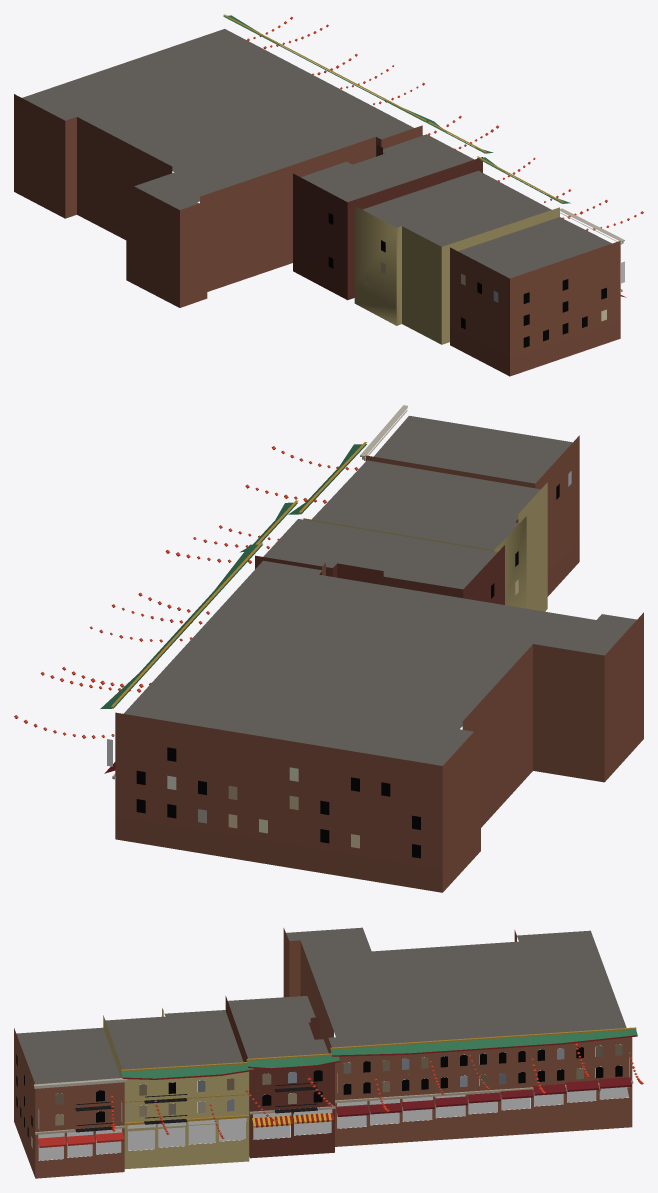
The picture shows the model from 3 angles, top to bottom: view 1: azimuth 30°, elevation 25°; view 2: azimuth 150°, elevation 25°; view 3: azimuth 270°, elevation 25°; orthographic projection. The views are drawn at different scales.
Parts seen in each view (by area): view 1: L1_roof, L1_d_brickred, L1_brickred, L1_d_stucco, L1_stucco, L1_win, L1_rooftile, L1_d_paint, L1_lantern; view 2: L1_roof, L1_brickred, L1_d_brickred, L1_d_stucco, L1_win, L1_rooftile, L1_stucco, L1_lantern, L1_d_paint; view 3: L1_roof, L1_brickred, L1_stucco, L1_shopint, L1_win, L1_rooftile, L1_d_fabric, L1_d_paint, L1_d_brickred, L1_sign, L1_stone, L1_d_metal (+1 smaller).
Part boxes in pixels (box(x1,y1,x2,y2)): L1_roof: box(22, 29, 611, 278); L1_d_brickred: box(14, 94, 482, 307); L1_brickred: box(65, 117, 620, 376); L1_d_stucco: box(402, 207, 559, 344); L1_stucco: box(354, 206, 401, 325); L1_win: box(328, 213, 606, 347); L1_rooftile: box(223, 15, 570, 203); L1_d_paint: box(223, 14, 563, 203); L1_lantern: box(247, 16, 643, 230); L1_roof: box(123, 415, 636, 765); L1_brickred: box(115, 435, 579, 892); L1_d_brickred: box(255, 455, 643, 892); L1_d_stucco: box(303, 482, 547, 611); L1_win: box(136, 471, 571, 858); L1_rooftile: box(100, 444, 366, 709); L1_stucco: box(494, 516, 526, 608); L1_lantern: box(14, 446, 358, 738); L1_d_paint: box(111, 442, 366, 708); L1_roof: box(16, 927, 626, 1084); L1_brickred: box(14, 930, 632, 1178); L1_stucco: box(124, 1008, 249, 1169); L1_shopint: box(38, 1087, 629, 1160); L1_win: box(16, 1044, 622, 1148); L1_rooftile: box(121, 1029, 637, 1078); L1_d_fabric: box(37, 1077, 631, 1147); L1_d_paint: box(121, 1027, 637, 1079); L1_d_brickred: box(225, 928, 333, 1157); L1_sign: box(38, 1056, 629, 1138); L1_stone: box(33, 1078, 633, 1134); L1_d_metal: box(75, 1082, 317, 1132).
Size of the model in its own units: 60.23 by 17.19 by 88.24.
